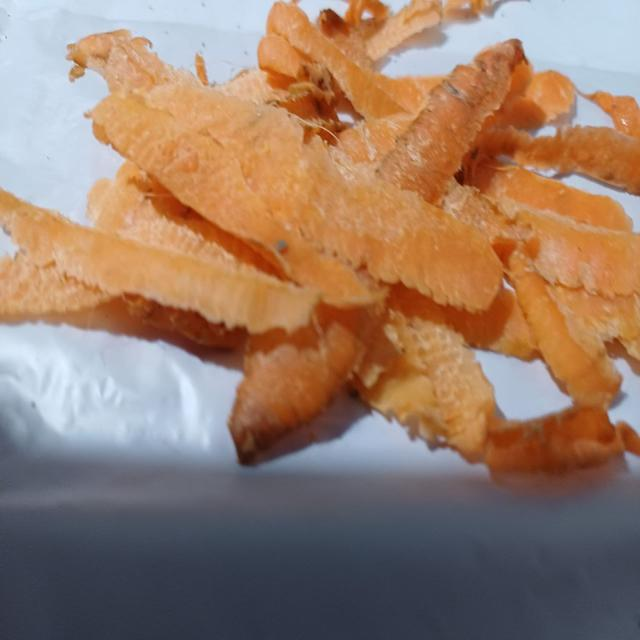organic: (0, 26, 640, 481)
